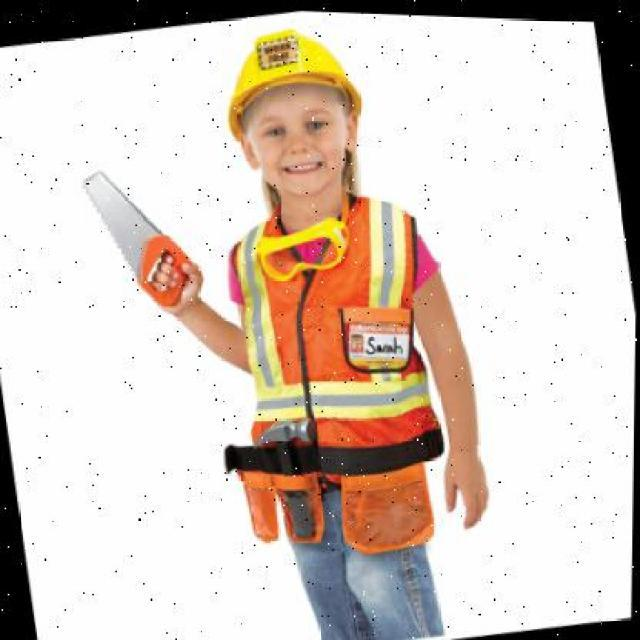helmet: (208, 17, 372, 157)
vest: (214, 182, 462, 572)
